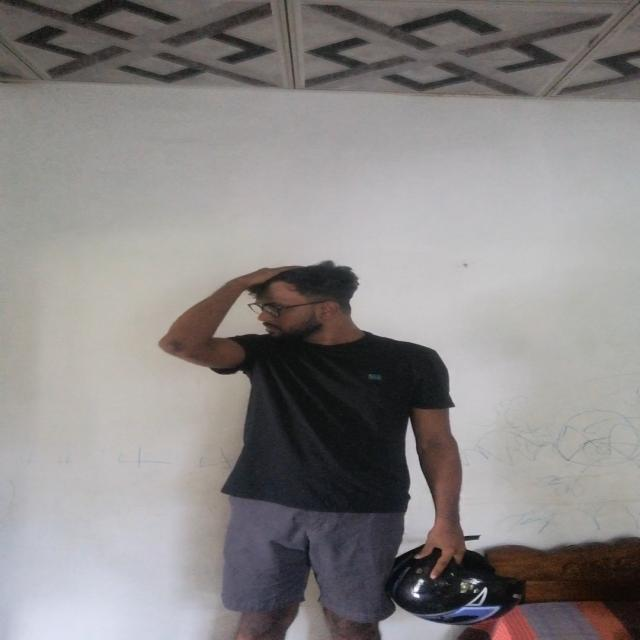Person: (170, 264, 462, 628)
